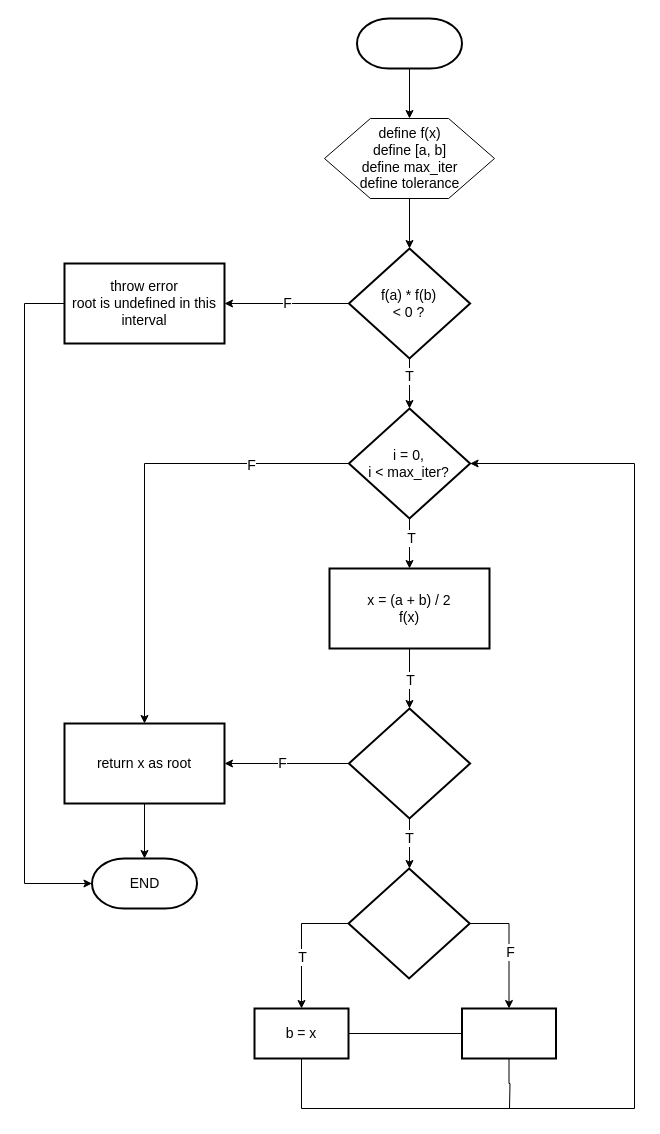
The diagram is 660 pixels wide and 1134 high, and some of its shapes have lost their labels. The shapes that lost their labels are listed below. From the top down, each one's box as (x1, y1, x2, y2) in pixels, then its label:
(356, 17, 462, 69): START
(347, 707, 471, 819): |f(x)| < tol or |b - a| < tol ?
(347, 867, 470, 979): f(a) * f(x) < 0 ?
(460, 1007, 556, 1059): a = x
